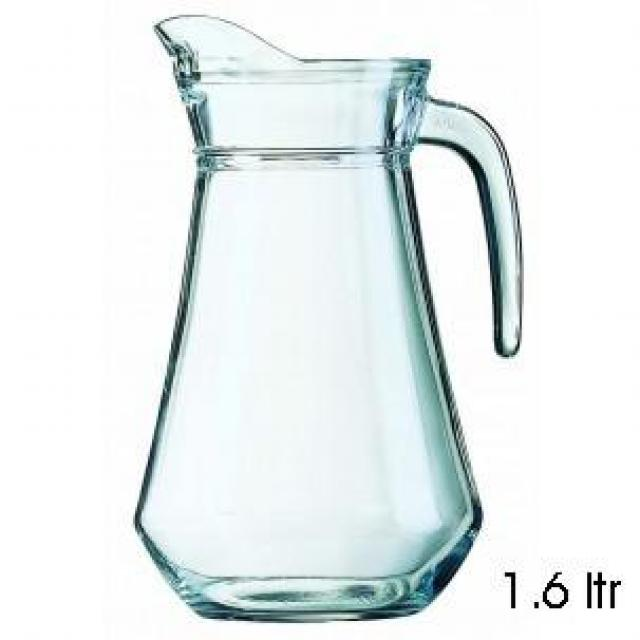non-organic waste: (132, 12, 527, 624)
